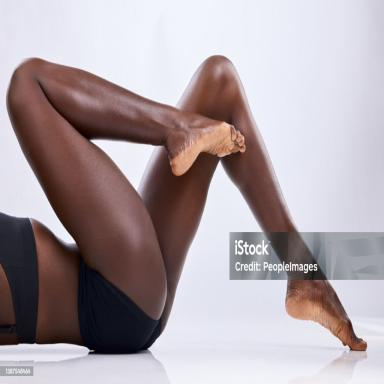normal skin: (7, 56, 296, 344), (286, 280, 366, 350)
